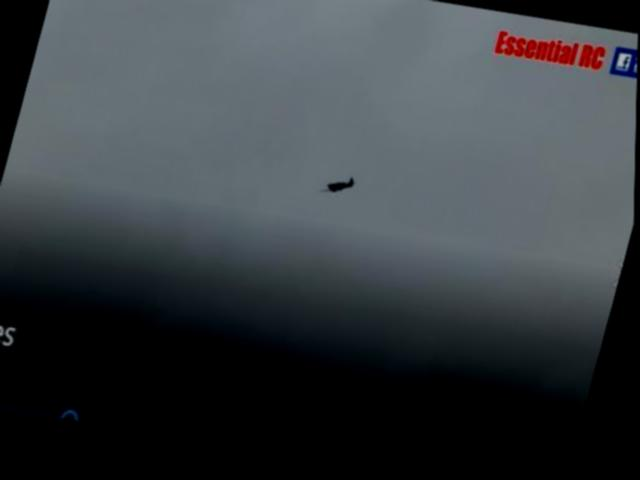uav: (315, 171, 362, 216)
